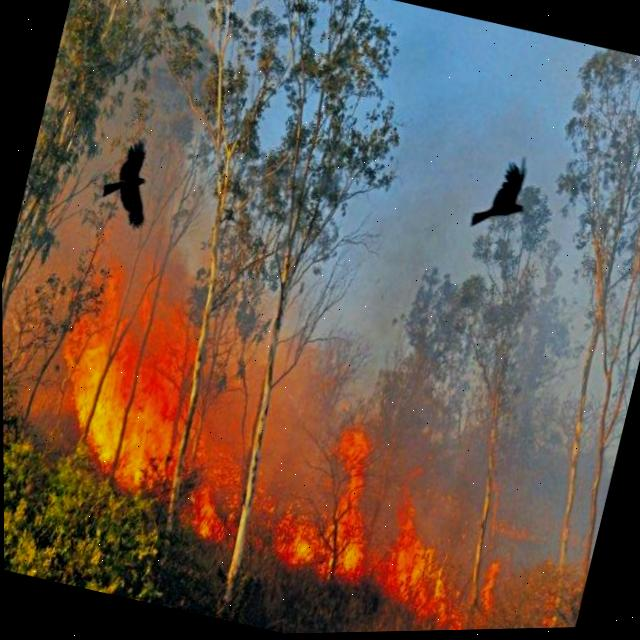fire: (34, 262, 221, 498), (262, 431, 457, 632), (176, 444, 245, 544)
smoke: (462, 316, 640, 592), (250, 266, 388, 489)
